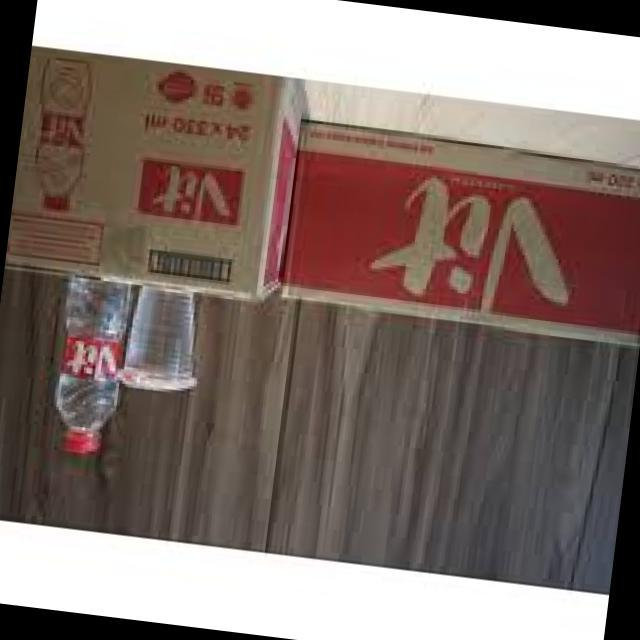good: (13, 276, 131, 458)
